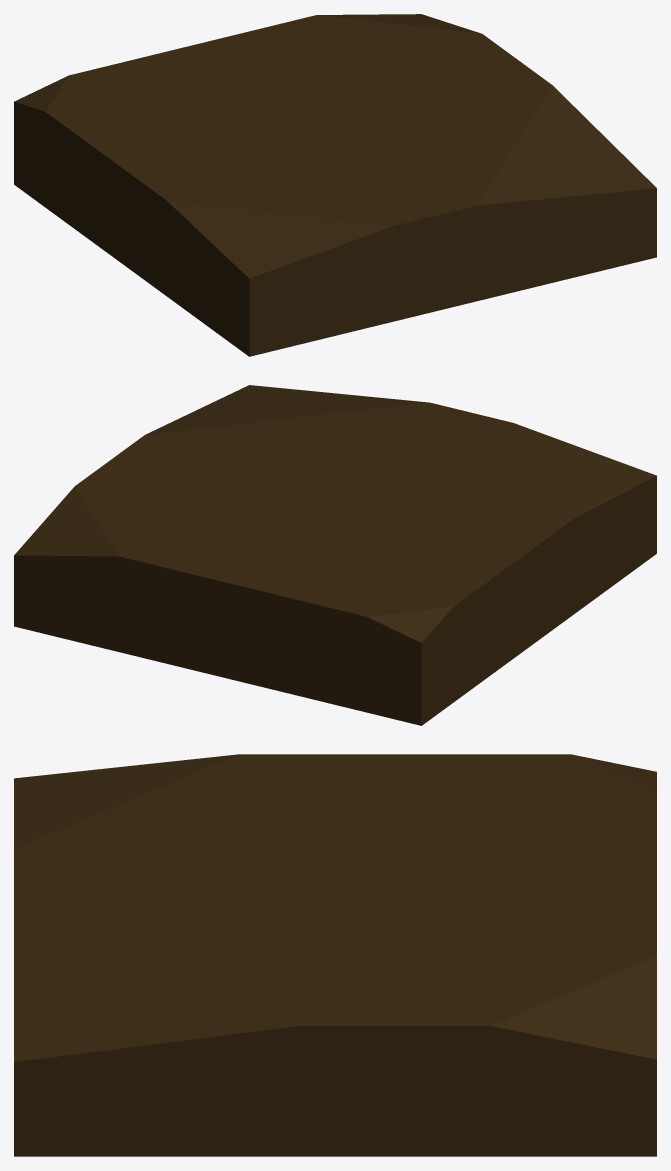
Rendered from Platform2.fbx.
The picture shows the model from 3 angles, top to bottom: view 1: azimuth 30°, elevation 25°; view 2: azimuth 150°, elevation 25°; view 3: azimuth 270°, elevation 25°; orthographic projection. The views are drawn at different scales.
Parts seen in each view (by area): view 1: 立方体.003; view 2: 立方体.003; view 3: 立方体.003.
Boxes of the visible parts, <box> form: 立方体.003: <box>14,14,656,356</box>; 立方体.003: <box>14,385,656,725</box>; 立方体.003: <box>14,754,656,1156</box>.
Size of the model in its own units: 2 by 0.4489 by 2.
